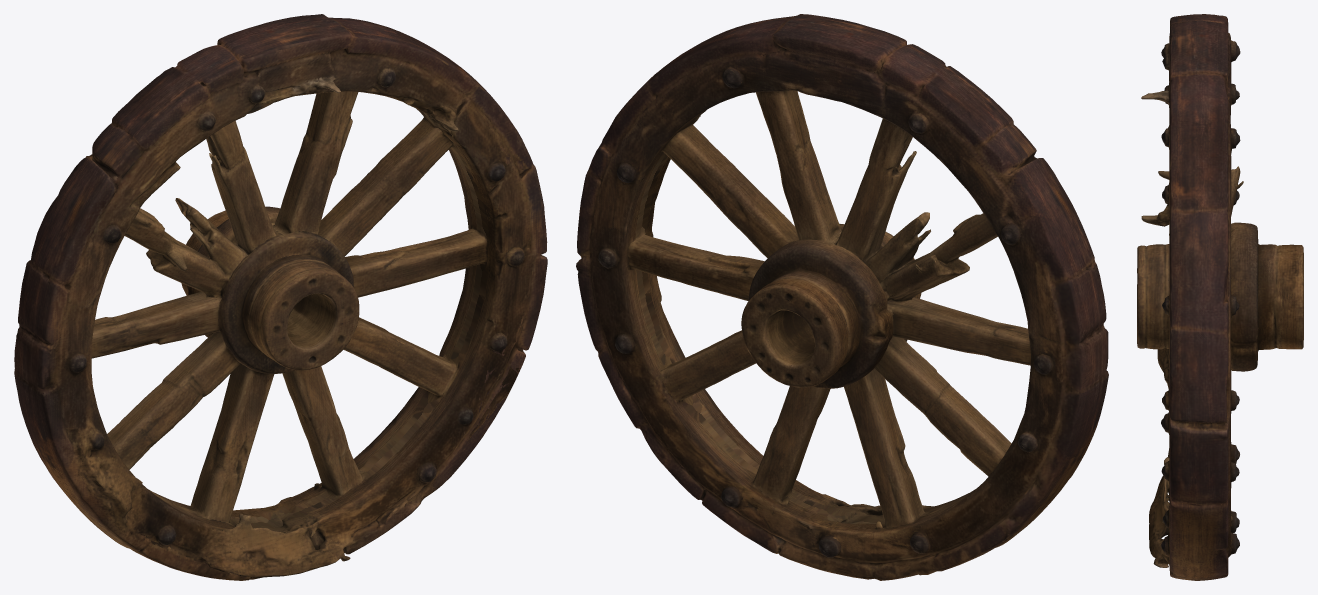
File: prop_cartwheel.glb
3 views of the same model, side by side, from view 1: azimuth 30°, elevation 25°; view 2: azimuth 150°, elevation 25°; view 3: azimuth 270°, elevation 25° (orthographic). The views are drawn at different scales.
Bounding box in the file's own units: 1 × 0.9996 × 0.2933.
Materials: 1 (1 with a texture image).
